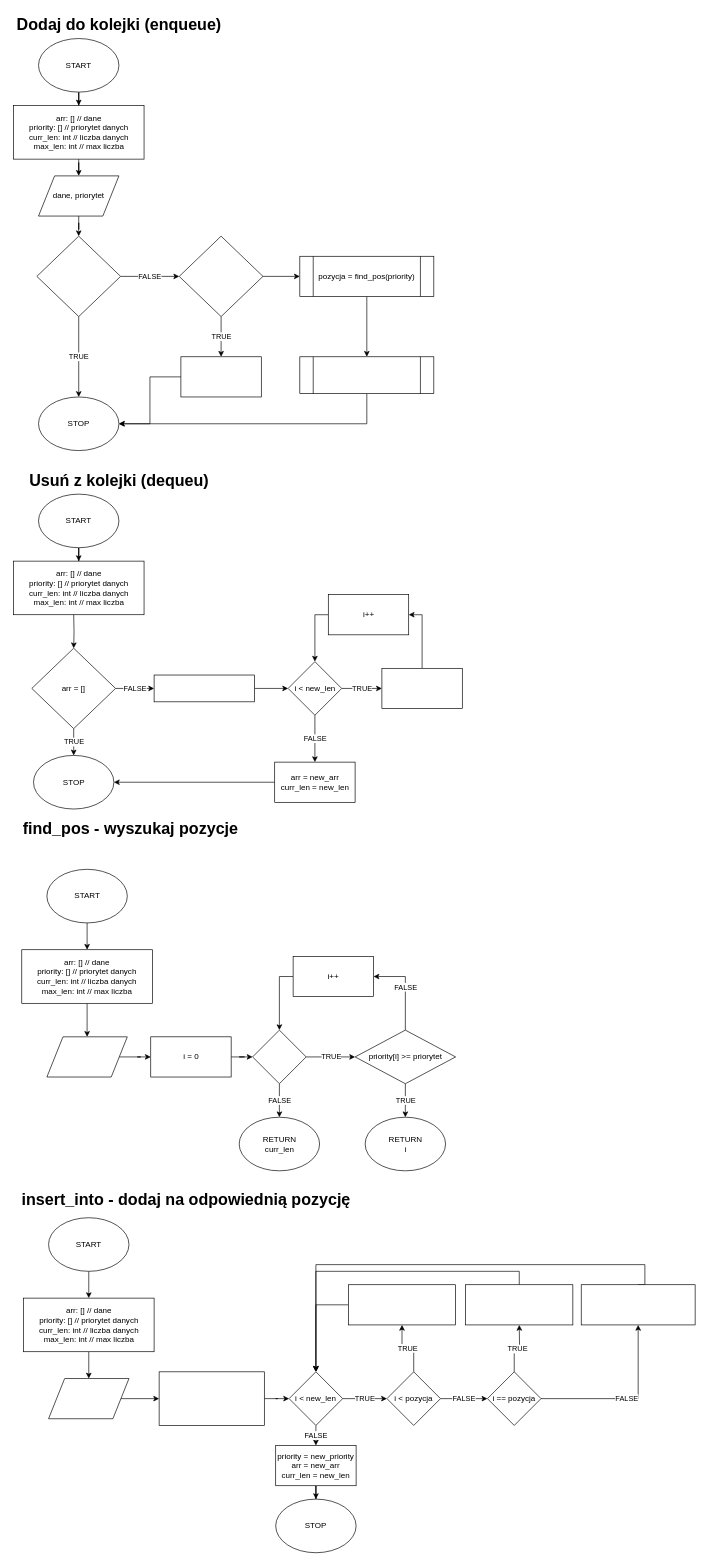
The diagram is 707 pixels wide and 1564 high, and some of its shapes have lost their labels. Each missing label, with the centre of its shape:
"curr_len = 1 arr = [dane] priority = [priorytet]" belongs at (220,376).
"curr_len == 0" belongs at (221,276).
"curr_len == max_len" belongs at (78,276).
"dane, priorytet, pozycja" belongs at (88,1398).
"i < curr_len" belongs at (279,1056).
"i = 0 new_len = curr_len + 1 new_arr = [] new_priority = []" belongs at (211,1398).
"i = 0 new_len = curr_len - 1" belongs at (204,688).
"insert_into(pozycja)" belongs at (366,375).
"new_arr[i] = arr[i - 1] new_priority[i] = priority[i - 1]" belongs at (638,1304).
"new_arr[i] = arr[i]" belongs at (421,688).
"new_arr[i] = arr[i] new_priority[i] = priority[i]" belongs at (402,1304).
"new_arr[i] = dane new_priority[i] = priorytet" belongs at (519,1304).
"priorytet" belongs at (86,1056).
